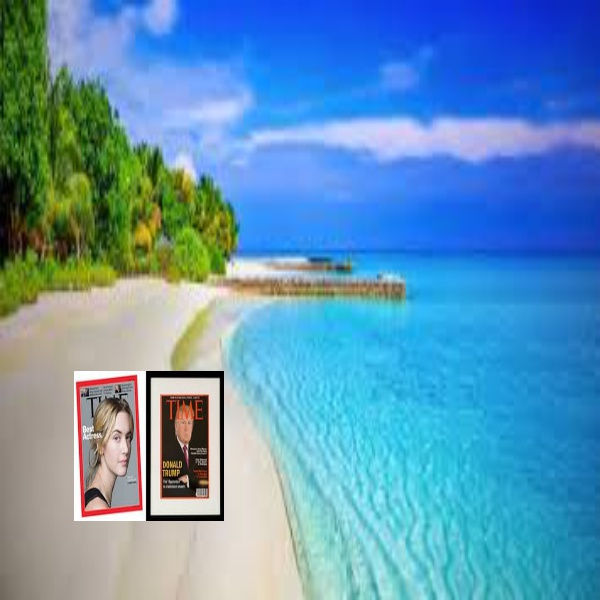time_cover: (71, 371, 143, 520), (162, 390, 209, 497)
